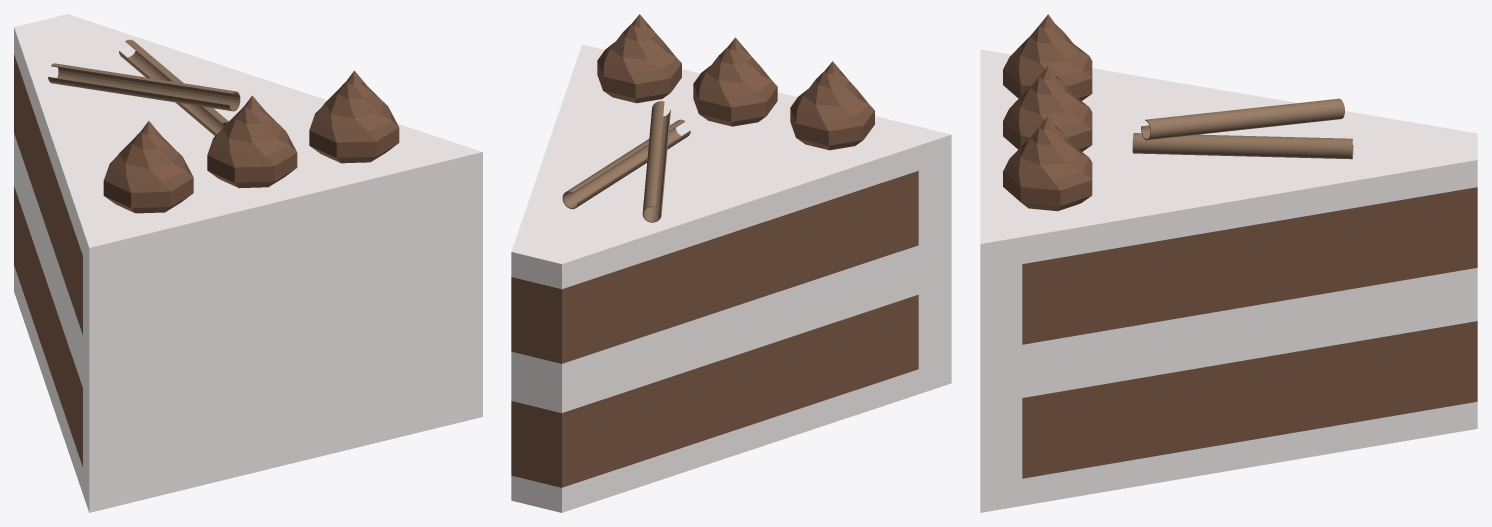
File: ChocolateCake.fbx
3 renders of one model, left to right at view 1: azimuth 30°, elevation 25°; view 2: azimuth 150°, elevation 25°; view 3: azimuth 270°, elevation 25°, orthographic. The views are drawn at different scales.
Parts seen in each view (by area): view 1: polySurface719; view 2: polySurface719; view 3: polySurface719.
Part boxes in pixels (x1,y1,x2,y2): polySurface719: (14, 14, 482, 512); polySurface719: (511, 14, 951, 512); polySurface719: (980, 14, 1477, 512).
Size of the model in its own units: 15.05 by 12.61 by 16.24.
